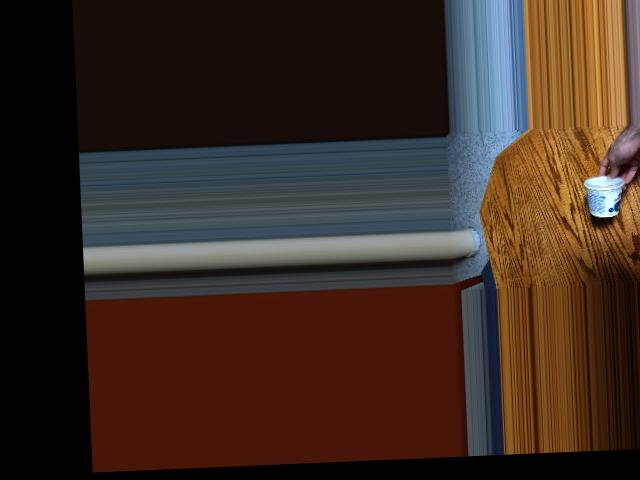cotage: (579, 168, 622, 212)
